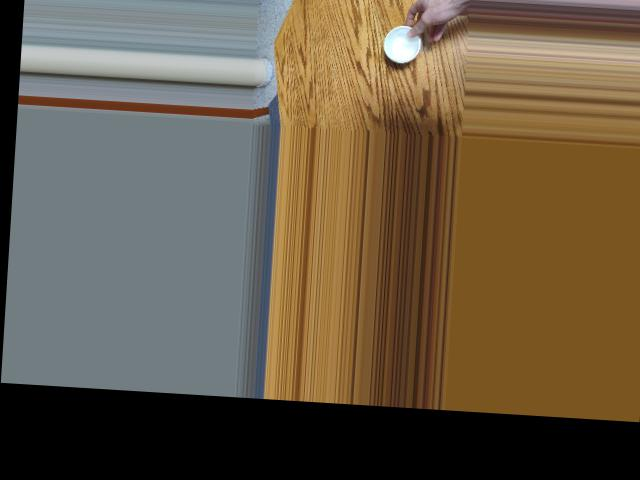cotage: (382, 19, 426, 62)
